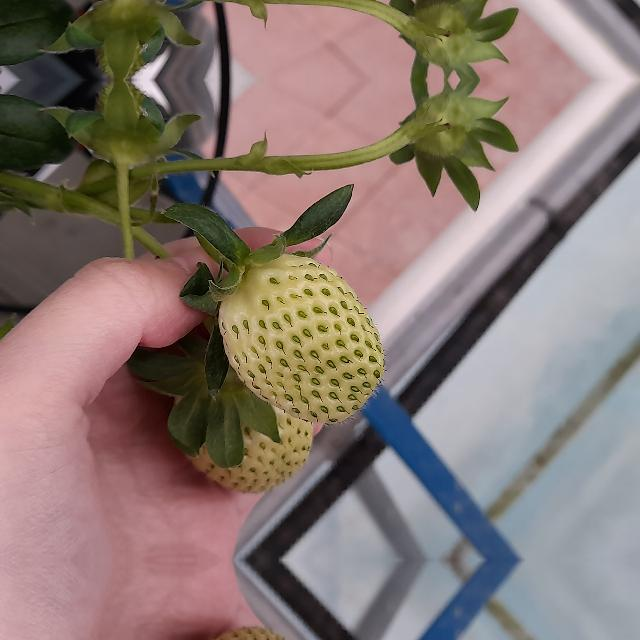Health_25: (218, 252, 384, 423), (178, 326, 312, 490)
